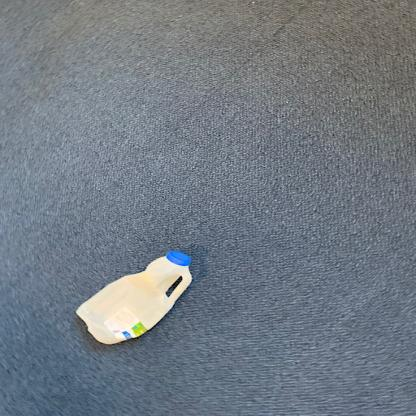trash: (76, 248, 195, 346)
